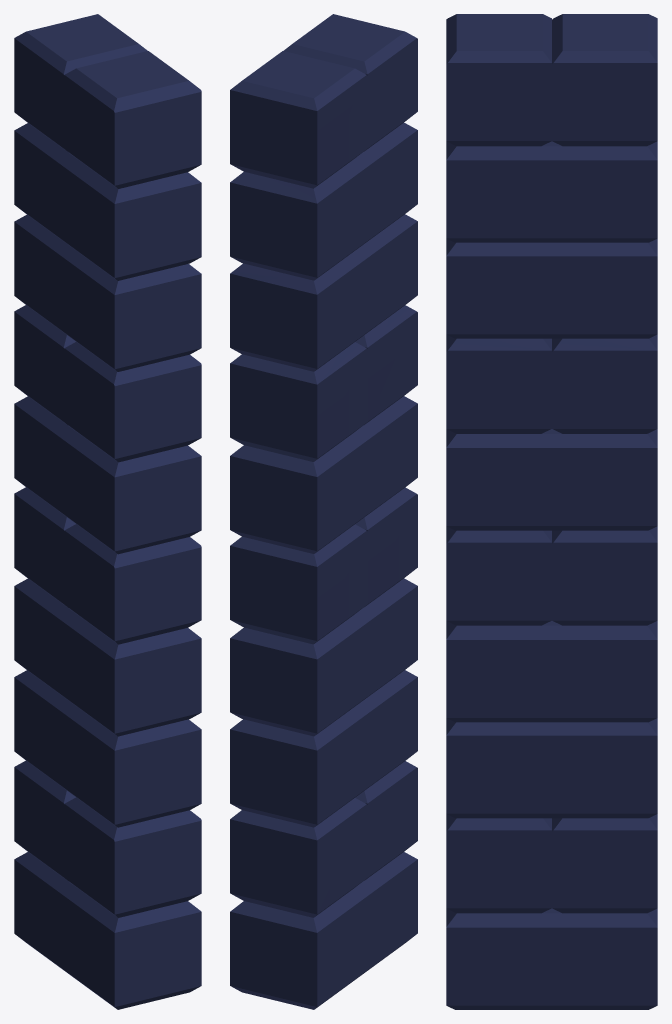
File: Wall.fbx
3 views of the same model, side by side, from view 1: azimuth 30°, elevation 25°; view 2: azimuth 150°, elevation 25°; view 3: azimuth 270°, elevation 25° (orthographic). The views are drawn at different scales.
Parts seen in each view (by area): view 1: obj_0.019; view 2: obj_0.019; view 3: obj_0.019.
Boxes of the visible parts, x1,y1,x2,y2 form: obj_0.019: [14, 14, 201, 1009]; obj_0.019: [230, 14, 417, 1009]; obj_0.019: [446, 14, 657, 1009].
Size of the model in its own units: 1000 by 10000 by 2000.
